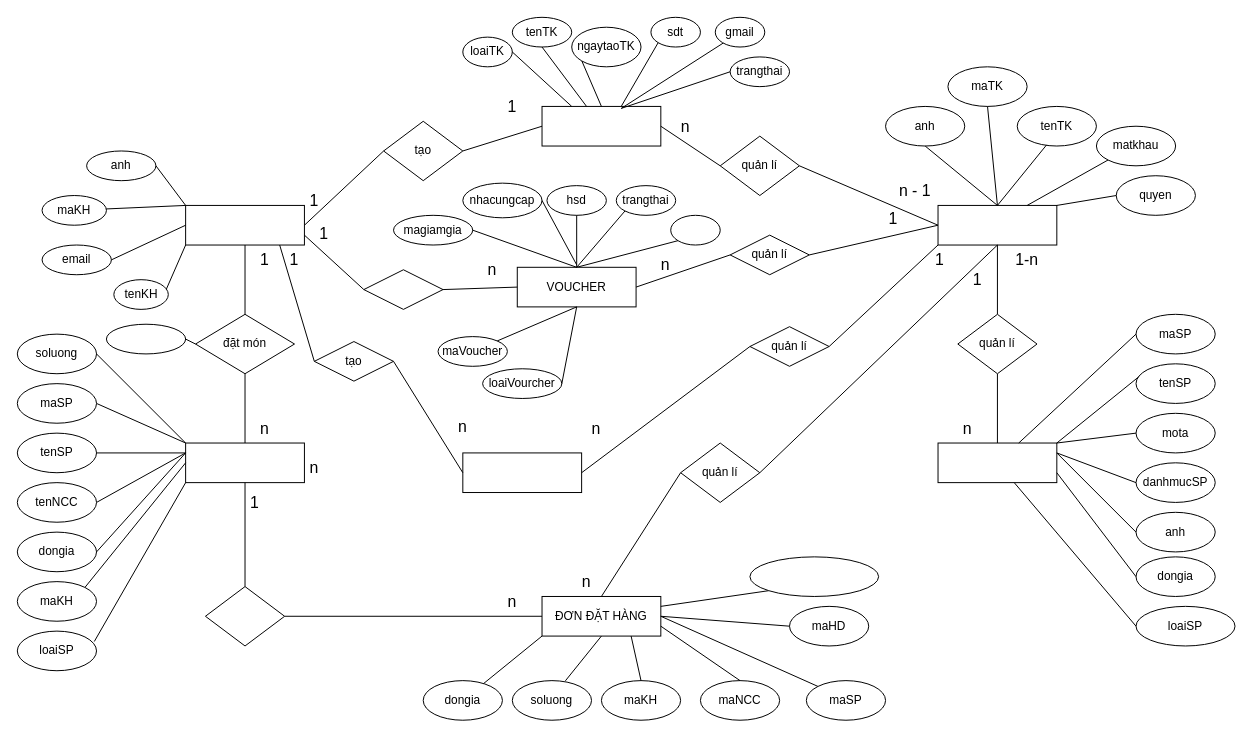
The diagram is 1252 pixels wide and 738 high, and some of its shapes have lost their labels. Each missing label, with the box of its shape:
ADMIN: (937, 204, 1057, 245)
conlai: (670, 214, 720, 245)
KHÁCH HÀNG: (185, 204, 304, 245)
ngaylaphoadon: (749, 556, 879, 596)
nhận: (363, 269, 443, 309)
SẢN PHẨM: (937, 442, 1057, 483)
thoigiandat: (105, 323, 186, 354)
TÀI KHOẢN: (541, 105, 661, 146)
tạo ra: (204, 586, 285, 646)
ĐÁNH GIÁ: (462, 452, 582, 493)
ỨNG DỤNG ĐẶT ĐỒ ĂN: (185, 442, 304, 483)
